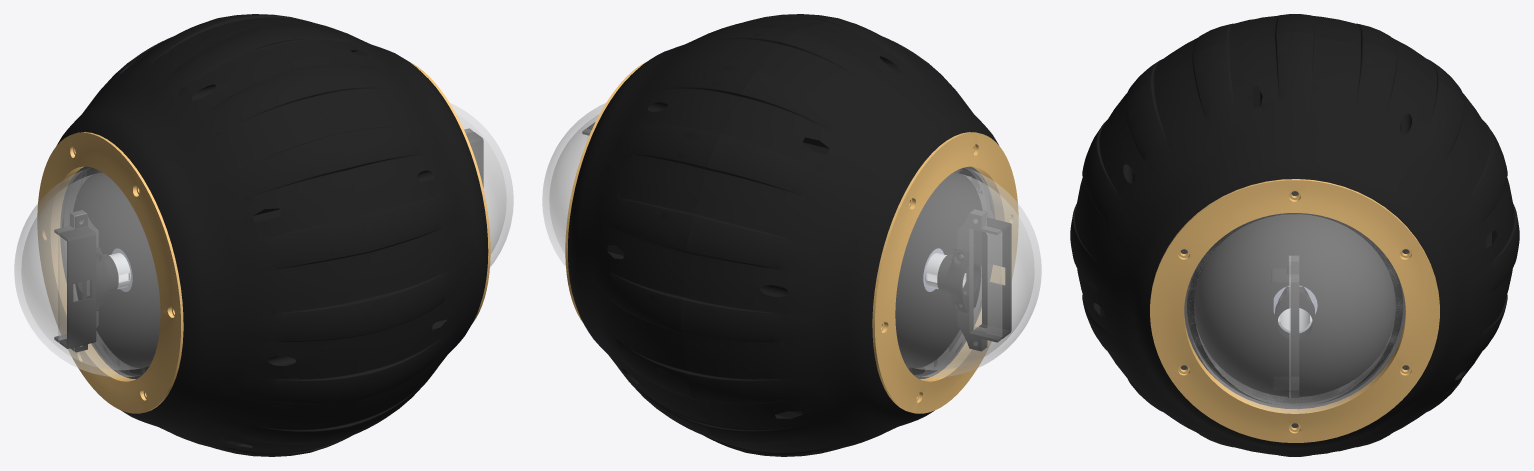
Rendered from CAD Model.FBX.
3 views of the same model, side by side, from view 1: azimuth 30°, elevation 25°; view 2: azimuth 150°, elevation 25°; view 3: azimuth 270°, elevation 25° (orthographic).
Visible parts, largest first — view 1: VIFS020, VIFS045, VIFS008, VIFS055, VIFS062, VIFS003, VIFS072, VIFS067, VIFS073, VIFS063, VIFS070; view 2: VIFS020, VIFS045, VIFS008, VIFS062, VIFS055, VIFS003, VIFS072, VIFS070, VIFS067, VIFS073, VIFS064, VIFS002; view 3: VIFS045, VIFS003, VIFS064, VIFS063, VIFS020, VIFS068, VIFS071, VIFS069, VIFS015.
Part boxes in pixels (<box>): VIFS020: <box>57,17,375,456</box>; VIFS045: <box>222,14,488,451</box>; VIFS008: <box>14,167,160,378</box>; VIFS055: <box>102,139,183,413</box>; VIFS062: <box>37,132,117,406</box>; VIFS003: <box>450,103,513,266</box>; VIFS072: <box>59,214,96,352</box>; VIFS067: <box>75,247,118,310</box>; VIFS073: <box>58,221,83,340</box>; VIFS063: <box>452,111,490,323</box>; VIFS070: <box>54,210,98,351</box>; VIFS020: <box>680,17,998,456</box>; VIFS045: <box>568,14,835,451</box>; VIFS008: <box>895,167,1041,378</box>; VIFS062: <box>872,146,953,413</box>; VIFS055: <box>940,132,1018,399</box>; VIFS003: <box>542,103,605,266</box>; VIFS072: <box>974,209,1011,347</box>; VIFS070: <box>957,210,1001,351</box>; VIFS067: <box>937,245,981,312</box>; VIFS073: <box>974,211,1001,344</box>; VIFS064: <box>565,61,647,322</box>; VIFS002: <box>925,253,966,288</box>; VIFS045: <box>1070,32,1519,456</box>; VIFS003: <box>1181,191,1408,427</box>; VIFS064: <box>1222,179,1439,425</box>; VIFS063: <box>1150,197,1367,442</box>; VIFS020: <box>1070,14,1519,296</box>; VIFS068: <box>1290,255,1299,397</box>; VIFS071: <box>1275,286,1314,354</box>; VIFS069: <box>1271,255,1289,397</box>; VIFS015: <box>1277,296,1312,332</box>.
Bounding box in the file's own units: 0.979 × 0.8025 × 0.8025.
